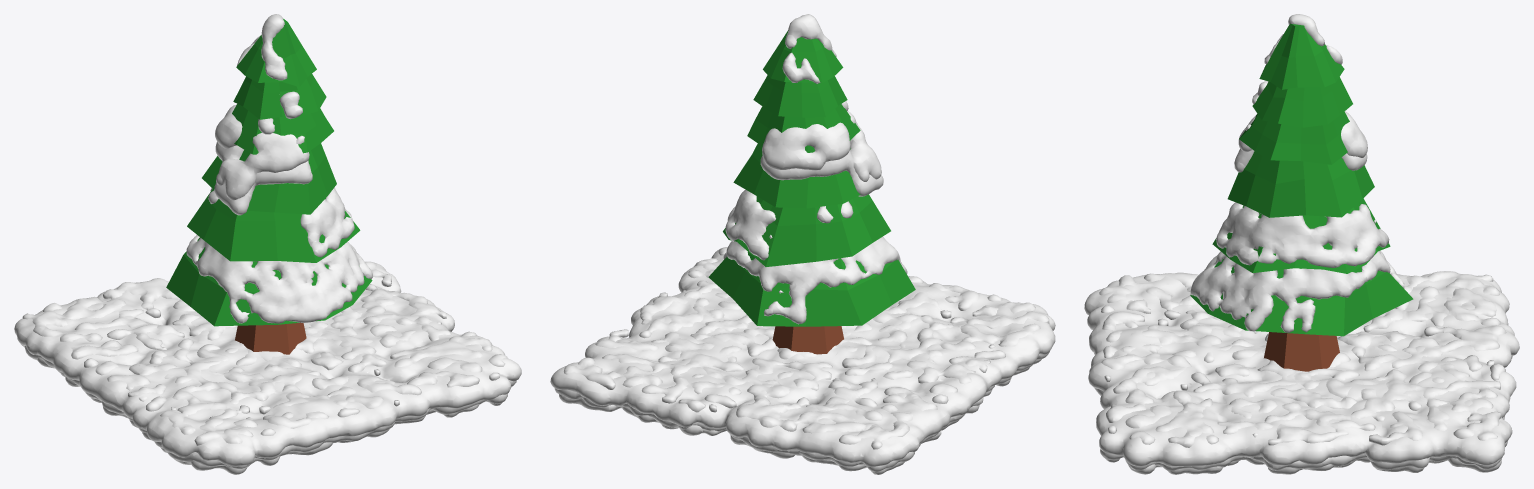
Rendered from tree.glb.
3 views of the same model, side by side, from view 1: azimuth 30°, elevation 25°; view 2: azimuth 150°, elevation 25°; view 3: azimuth 270°, elevation 25° (orthographic). The views are drawn at different scales.
Visible parts, largest first — view 1: SnowBall.011, SnowBall.008, SnowBall.002, Cylinder.002, SnowBall.019, Cylinder.001, Cylinder.003, Cylinder.004, Cylinder.006, Cylinder.005, SnowBall.003, SnowBall.010 (+4 smaller); view 2: SnowBall.011, SnowBall.008, Cylinder.001, Cylinder.002, SnowBall.002, SnowBall.019, Cylinder.003, Cylinder.004, SnowBall.003, Cylinder.006, SnowBall.010, Cylinder.005 (+4 smaller); view 3: SnowBall.011, SnowBall.008, SnowBall.002, SnowBall.003, Cylinder.003, Cylinder.001, Cylinder.005, Cylinder.006, Cylinder.004, Cylinder, SnowBall.010, Cylinder.002 (+4 smaller).
Part boxes in pixels (x1,y1,x2,y2): SnowBall.011: (14, 243, 521, 466); SnowBall.008: (22, 261, 507, 445); SnowBall.002: (186, 235, 372, 323); Cylinder.002: (187, 189, 360, 262); SnowBall.019: (215, 104, 309, 200); Cylinder.001: (166, 237, 372, 326); Cylinder.003: (202, 143, 336, 214); Cylinder.004: (233, 74, 326, 119); Cylinder.006: (236, 18, 316, 87); Cylinder.005: (232, 104, 333, 154); SnowBall.003: (208, 187, 354, 257); SnowBall.010: (21, 331, 516, 468); SnowBall.011: (550, 247, 1055, 466); SnowBall.008: (564, 247, 1049, 449); Cylinder.001: (708, 252, 915, 326); Cylinder.002: (723, 194, 890, 266); SnowBall.002: (723, 236, 907, 324); SnowBall.019: (762, 110, 881, 181); Cylinder.003: (733, 143, 860, 208); Cylinder.004: (753, 75, 847, 117); SnowBall.003: (725, 189, 853, 260); Cylinder.006: (763, 30, 843, 83); SnowBall.010: (554, 351, 1049, 472); Cylinder.005: (747, 104, 860, 152); SnowBall.011: (1084, 272, 1519, 466); SnowBall.008: (1099, 271, 1506, 447); SnowBall.002: (1190, 250, 1404, 332); SnowBall.003: (1216, 202, 1389, 267); Cylinder.003: (1227, 151, 1374, 217); Cylinder.001: (1190, 259, 1413, 336); Cylinder.005: (1239, 112, 1349, 164); Cylinder.006: (1259, 23, 1344, 89); Cylinder.004: (1252, 77, 1352, 127); Cylinder: (1264, 332, 1339, 371); SnowBall.010: (1094, 353, 1512, 471); Cylinder.002: (1212, 198, 1390, 273).
Size of the model in its own units: 4.48 by 4.38 by 4.54.
